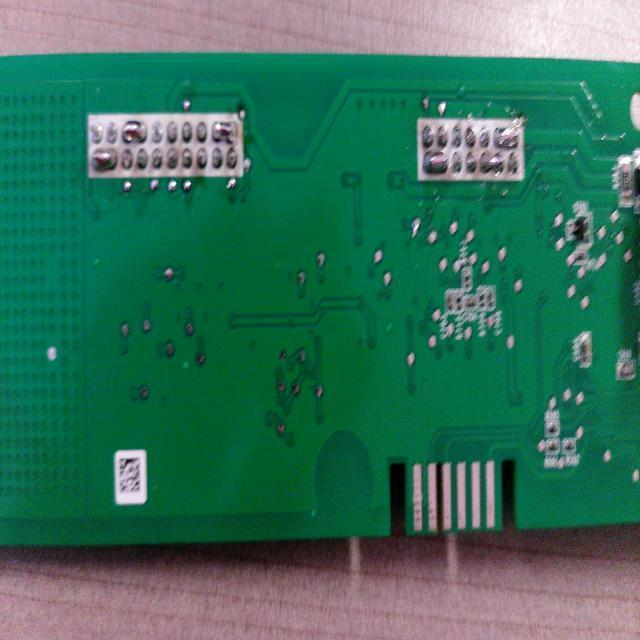Soldering shorted: (476, 147, 506, 177), (89, 148, 118, 178), (493, 126, 522, 154), (420, 150, 450, 177), (120, 122, 148, 146)
